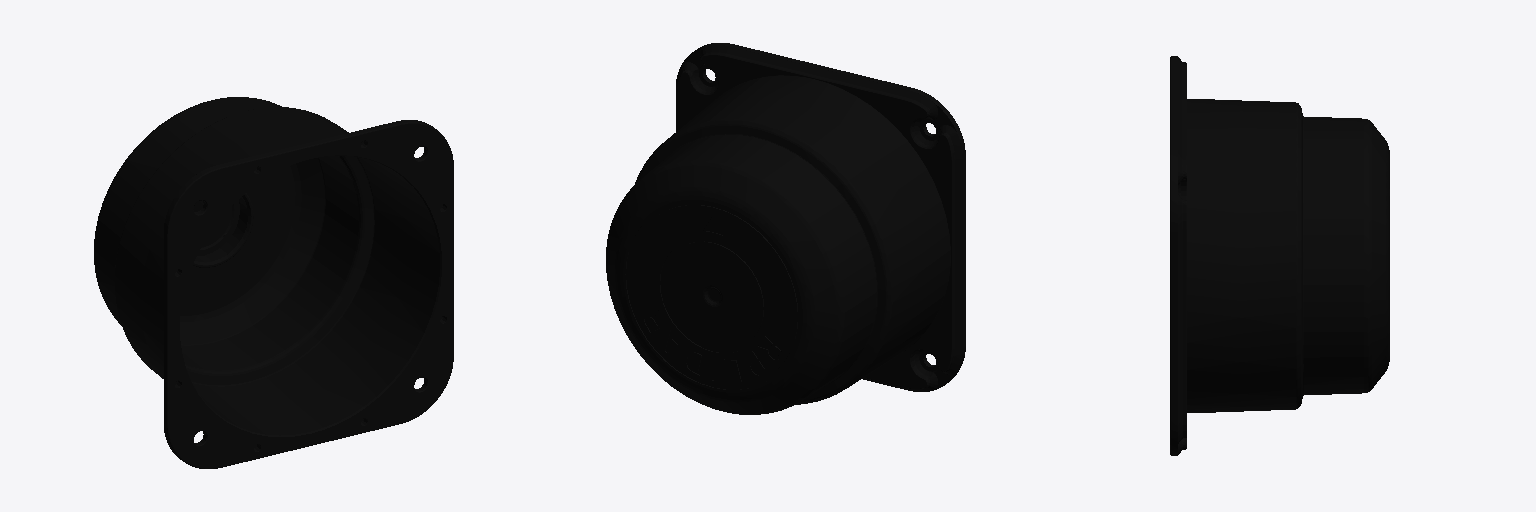
File: rplidar-s1.obj
3 views of the same model, side by side, from view 1: azimuth 30°, elevation 25°; view 2: azimuth 150°, elevation 25°; view 3: azimuth 270°, elevation 25° (orthographic).
Visible parts, largest first — view 1: Solid2; view 2: Solid2; view 3: Solid2.
Boxes of the visible parts, x1,y1,x2,y2 form: Solid2: [94, 97, 453, 468]; Solid2: [606, 43, 965, 414]; Solid2: [1170, 56, 1389, 455].
Size of the model in its own units: 0.0525 by 0.0525 by 0.0348.